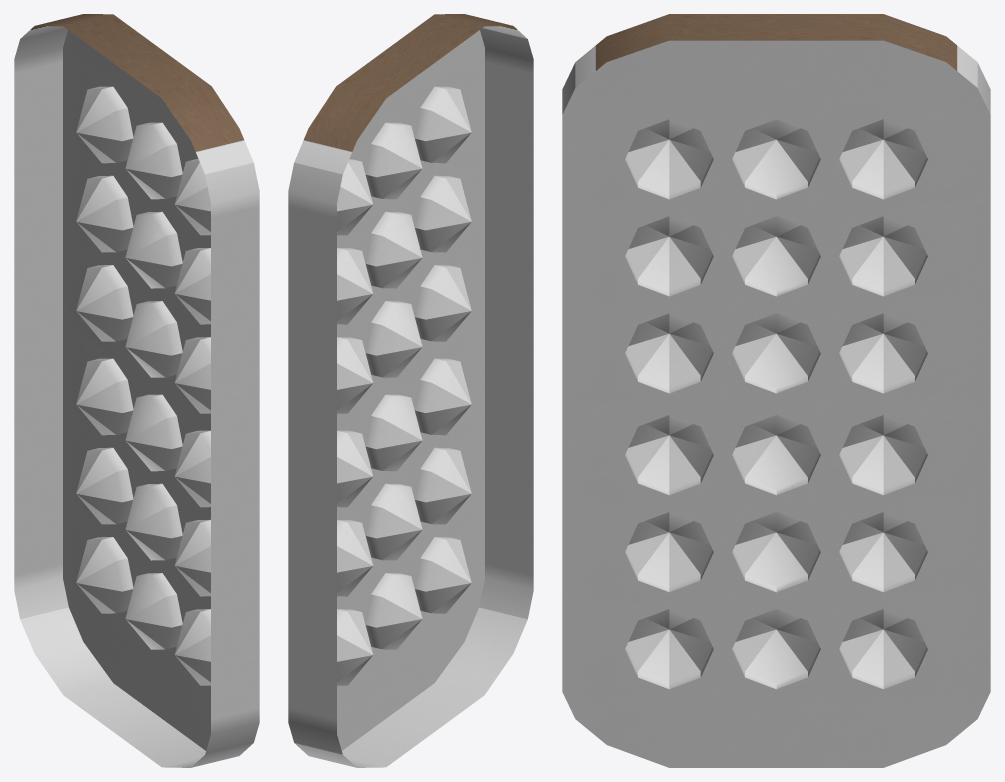
Rendered from Decor_LightPanel.fbx.
3 views of the same model, side by side, from view 1: azimuth 30°, elevation 25°; view 2: azimuth 150°, elevation 25°; view 3: azimuth 270°, elevation 25° (orthographic). The views are drawn at different scales.
Visible parts, largest first — view 1: Decor_LightPanel; view 2: Decor_LightPanel; view 3: Decor_LightPanel.
Boxes of the visible parts, x1=… form: Decor_LightPanel: x1=14, y1=14, x2=259, y2=767; Decor_LightPanel: x1=288, y1=14, x2=533, y2=767; Decor_LightPanel: x1=562, y1=14, x2=990, y2=767.
Size of the model in its own units: 14.65 by 187 by 100.
